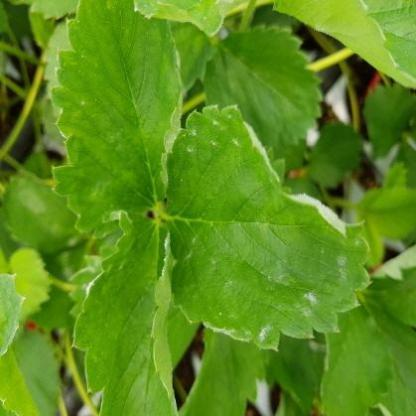Strawberry_Powdery_Mildew_Leaf: (164, 105, 372, 351), (49, 0, 184, 240), (71, 209, 179, 415), (273, 0, 415, 90)
